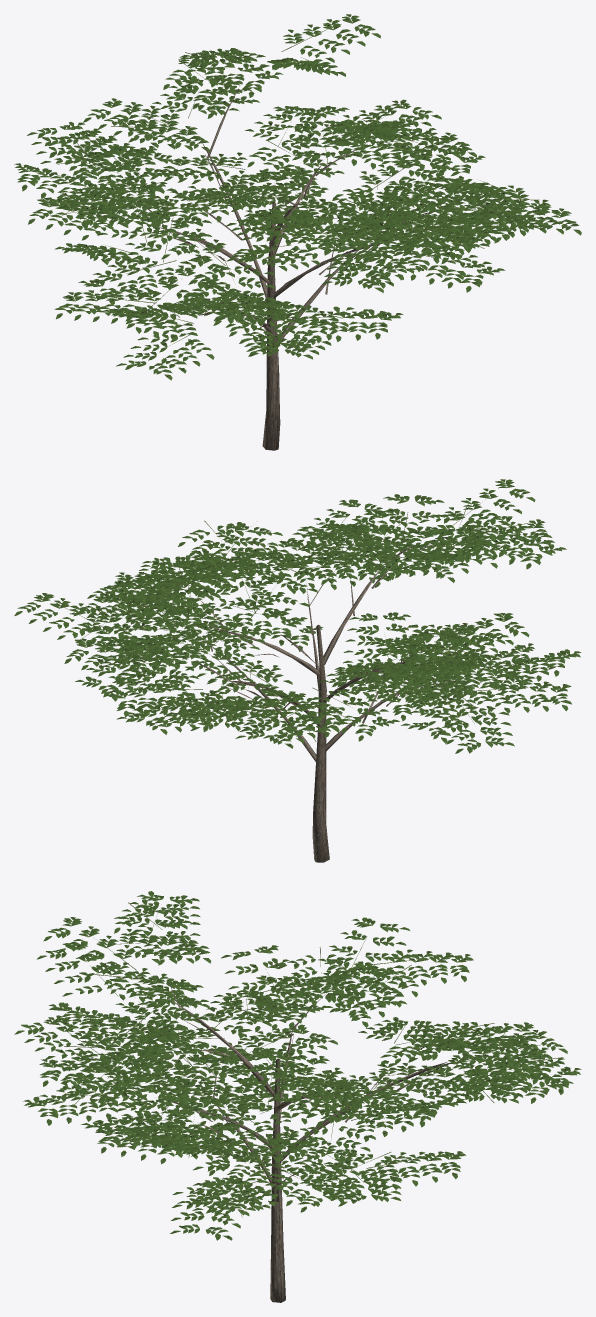
Rendered from koelreuteria-2.glb.
3 renders of one model, top to bottom at view 1: azimuth 30°, elevation 25°; view 2: azimuth 150°, elevation 25°; view 3: azimuth 270°, elevation 25°, orthographic. The views are drawn at different scales.
Parts seen in each view (by area): view 1: leaf, leaf-edge, bark, rachis, leaf-back; view 2: leaf, bark, leaf-edge, rachis, leaf-back; view 3: leaf, leaf-edge, bark, rachis, leaf-back.
Part boxes in pixels (bbox=[...]): leaf: bbox=[14, 14, 581, 380]; leaf-edge: bbox=[16, 16, 577, 376]; bark: bbox=[134, 86, 442, 450]; rachis: bbox=[54, 26, 539, 345]; leaf-back: bbox=[35, 17, 576, 372]; leaf: bbox=[14, 479, 581, 753]; bark: bbox=[187, 542, 455, 862]; leaf-edge: bbox=[28, 488, 570, 750]; rachis: bbox=[64, 503, 530, 741]; leaf-back: bbox=[44, 481, 580, 745]; leaf: bbox=[14, 891, 581, 1240]; leaf-edge: bbox=[18, 893, 570, 1237]; bark: bbox=[138, 981, 468, 1302]; rachis: bbox=[62, 902, 563, 1217]; leaf-back: bbox=[29, 900, 580, 1231].
Bounding box in the file's own units: 2.23 × 1.46 × 2.28.
Materials: 4 (3 with a texture image).
